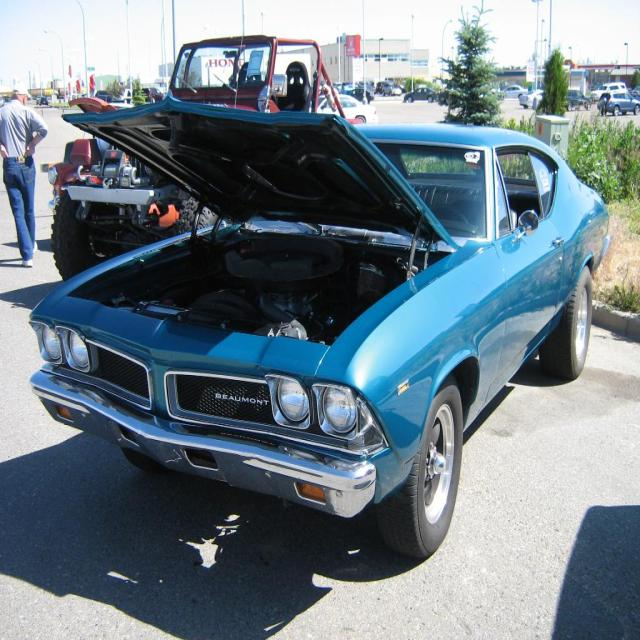car: (29, 88, 611, 562)
